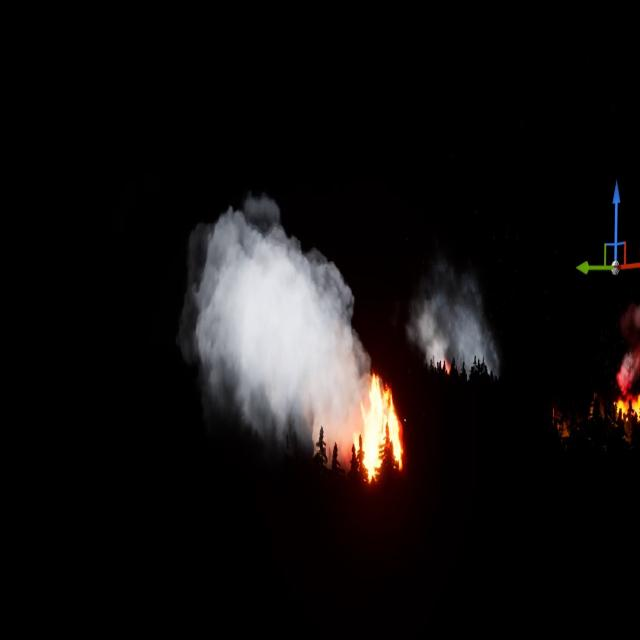fire: (355, 368, 408, 486), (610, 344, 640, 423)
smoke: (184, 184, 375, 462), (405, 272, 503, 383)
